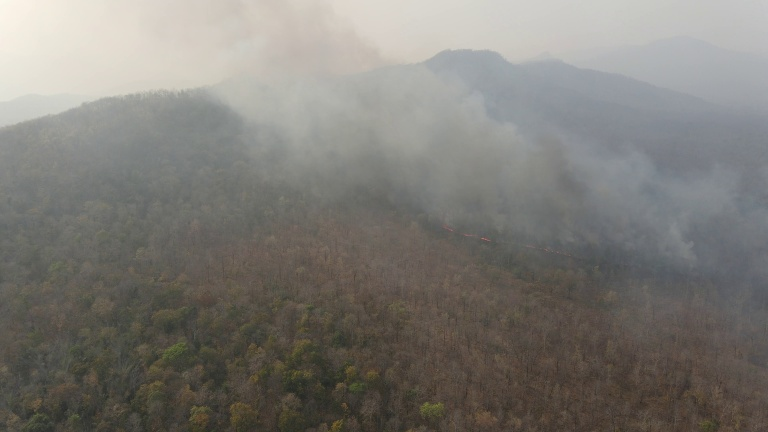fire: (430, 217, 494, 246), (524, 239, 594, 261)
smoke: (212, 1, 547, 225), (533, 127, 768, 271)
